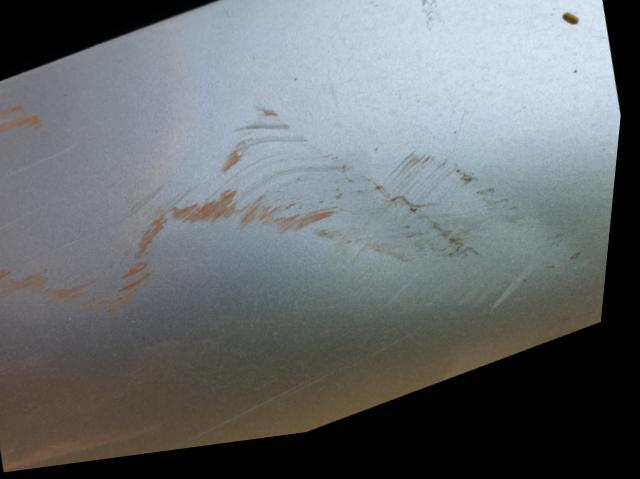scratch: (0, 93, 563, 326)
